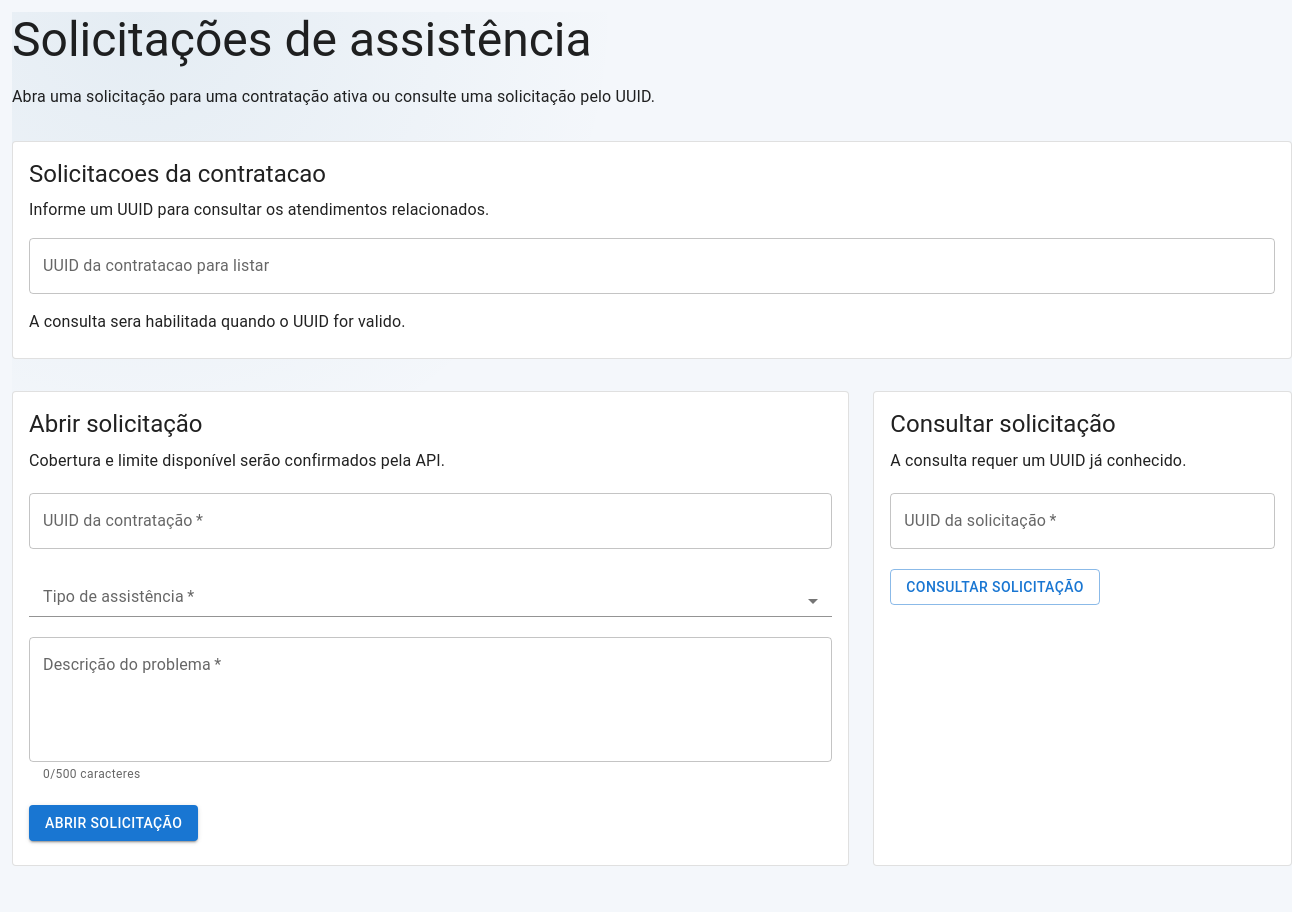
PaginaSolicitacoes › orienta quando o UUID informado para consulta nao e valido
Type "id-invalido" into the field labelled "UUID da solicitação" at x=1083, y=521, box [890, 493, 1275, 549]
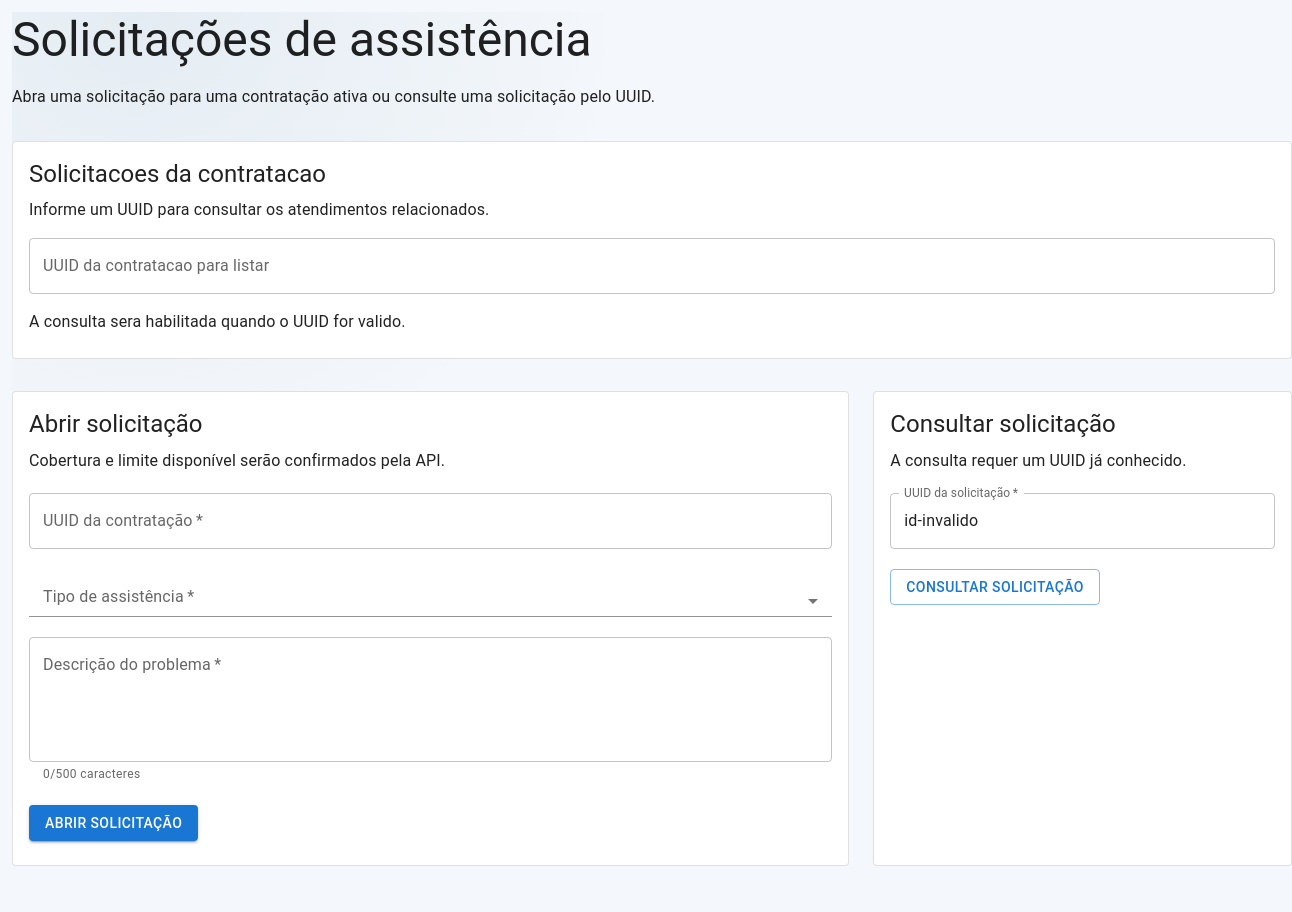
Click the button "Consultar solicitação" at x=995, y=587, box [890, 569, 1100, 605]
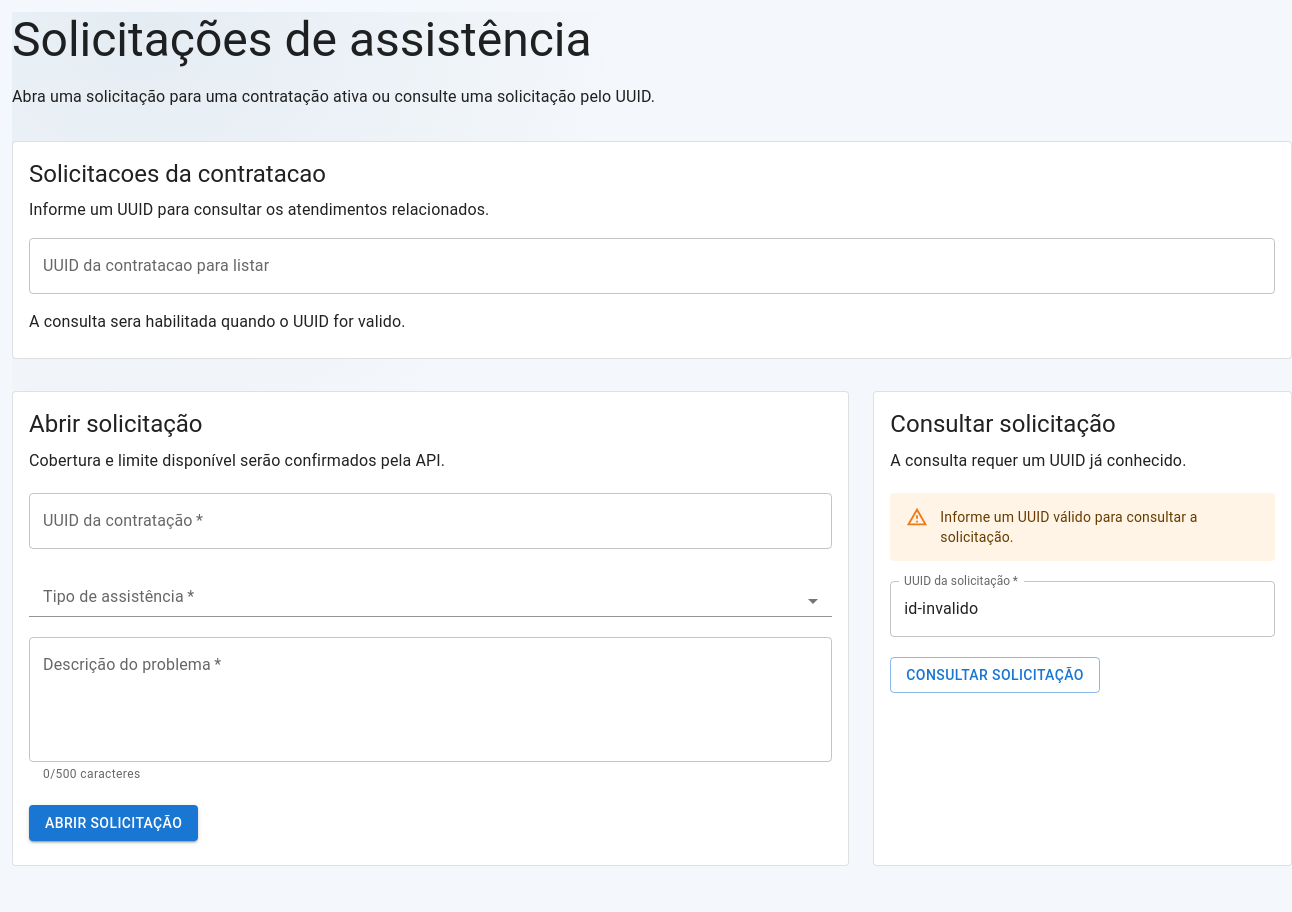
Expected: the message reads "Informe um UUID válido para consultar a solicitação.", [940, 509, 1198, 545]
